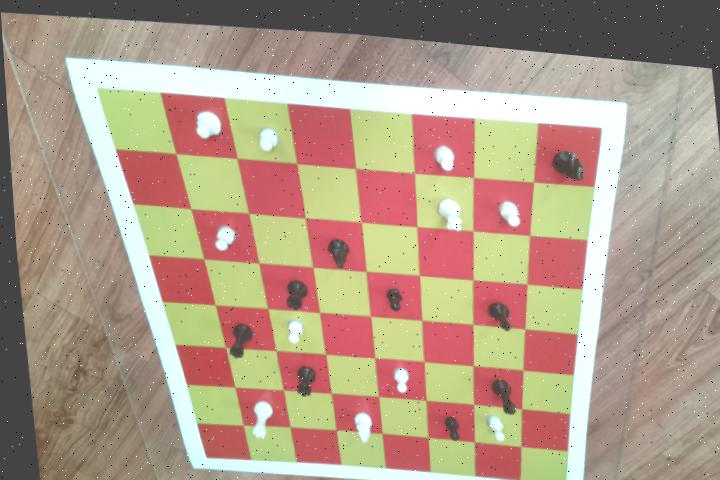chessboard-detect: (95, 86, 603, 476)
